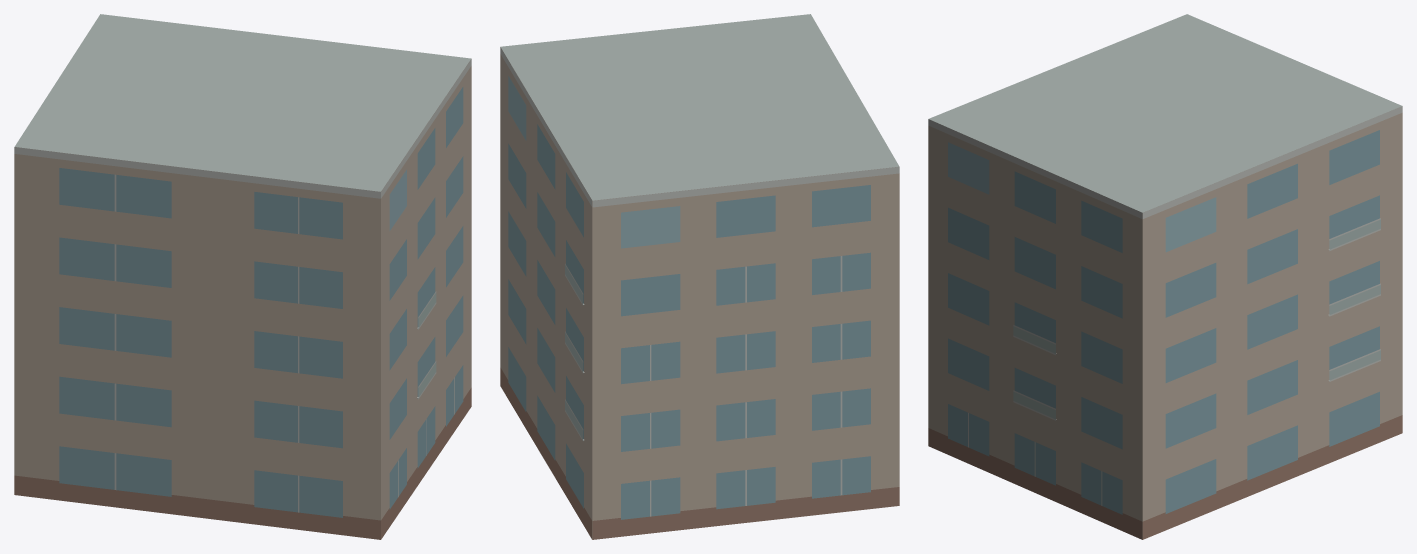
The model's file is survey-upis-32991208.glb.
The picture shows the model from 3 angles, left to right: view 1: azimuth 30°, elevation 25°; view 2: azimuth 150°, elevation 25°; view 3: azimuth 270°, elevation 25°; orthographic projection. The views are drawn at different scales.
Visible parts, largest first — view 1: survey-upis-32991208.tmp; view 2: survey-upis-32991208.tmp; view 3: survey-upis-32991208.tmp.
Part boxes in pixels (box(x1,y1,x2,y2)): survey-upis-32991208.tmp: box(14, 14, 471, 539); survey-upis-32991208.tmp: box(500, 14, 899, 539); survey-upis-32991208.tmp: box(928, 14, 1402, 539).
Size of the model in its own units: 15.9 by 12.2 by 16.04.
